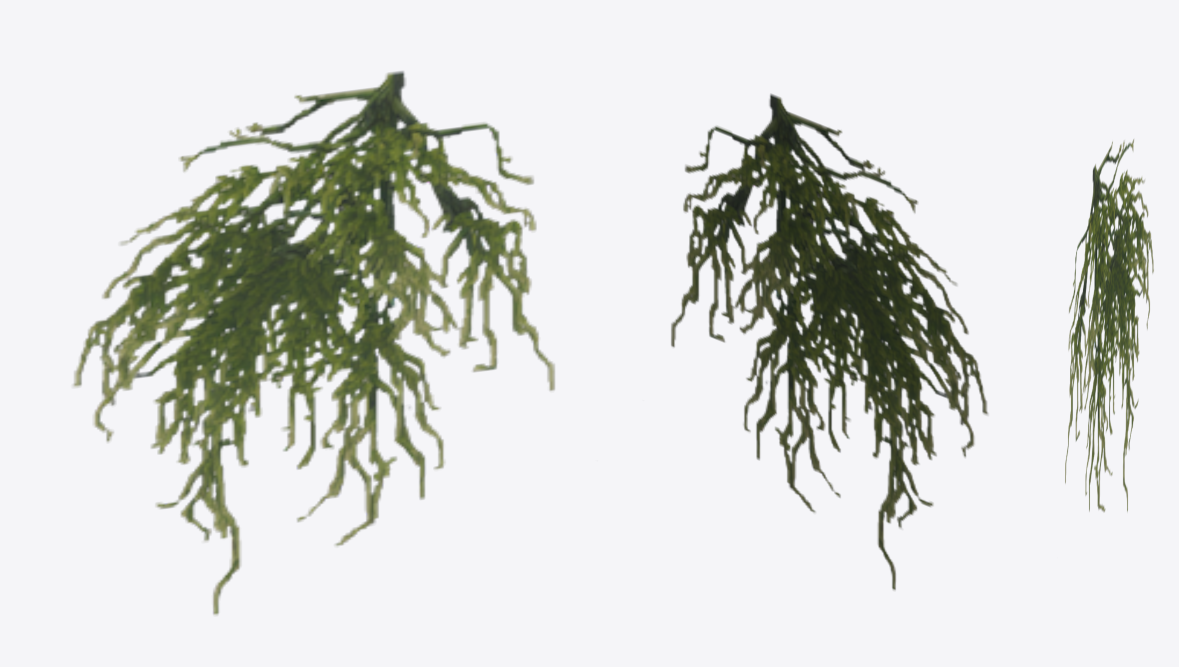
The model's file is algae_h_10.gltf.
3 views of the same model, side by side, from view 1: azimuth 30°, elevation 25°; view 2: azimuth 150°, elevation 25°; view 3: azimuth 270°, elevation 25° (orthographic). The views are drawn at different scales.
Visible parts, largest first — view 1: algae_h_10; view 2: algae_h_10; view 3: algae_h_10.
Part boxes in pixels (x1=…): algae_h_10: x1=72, y1=71, x2=554, y2=615; algae_h_10: x1=671, y1=94, x2=988, y2=590; algae_h_10: x1=1065, y1=139, x2=1153, y2=511.
Bounding box in the file's own units: 2.34 × 2.4 × 0.5432.
Materials: 1 (1 with a texture image).
